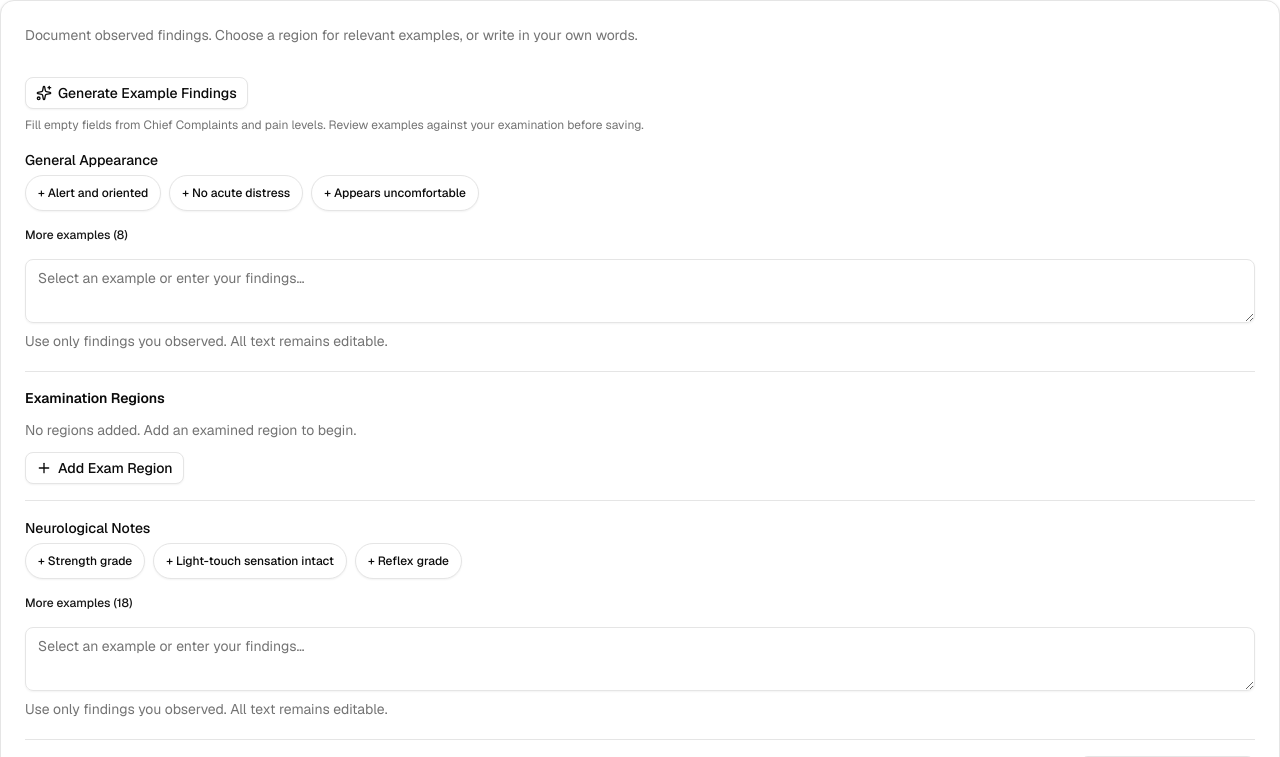
Test: ExamFindingsCard › provides actionable feedback for missing complaints without dirtying fields
Click the button "Generate Example Findings" at (136, 93), box [25, 77, 248, 109]
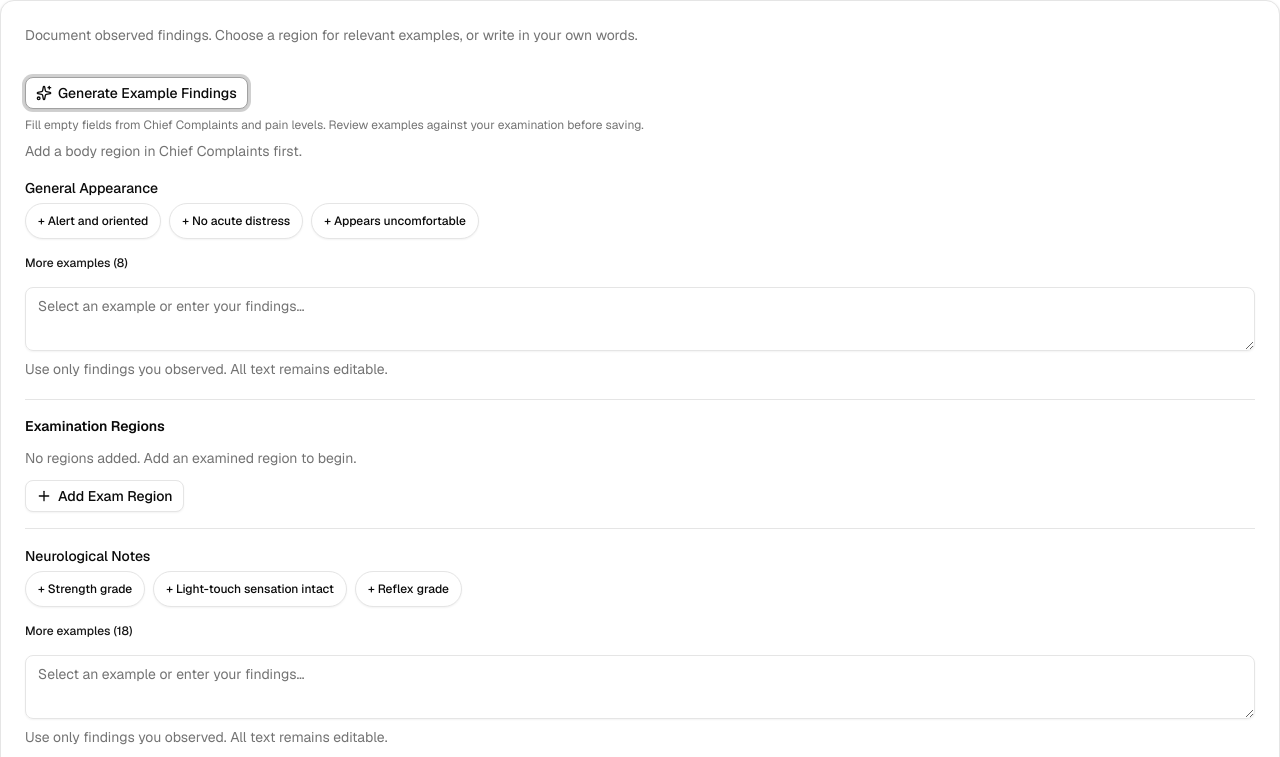
Check: the text box labelled "General Appearance" is empty, box [25, 287, 1255, 351]
Check: the text "Add a body region in Chief Complaints first." is shown, box [25, 142, 302, 160]
